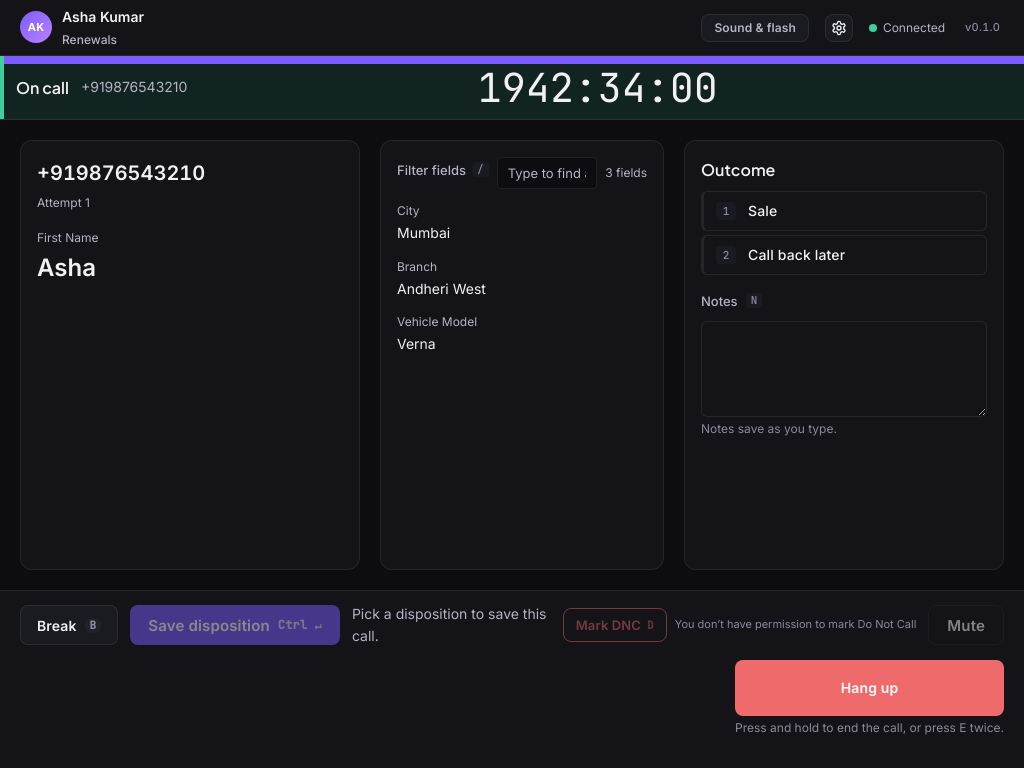
Scenario: the contact-panel field filter › filters as you type, matching the VALUE, case-insensitively, and marks the match
Type "MUM" into the field labelled "Filter fields" at (547, 173), box [497,157,597,189]
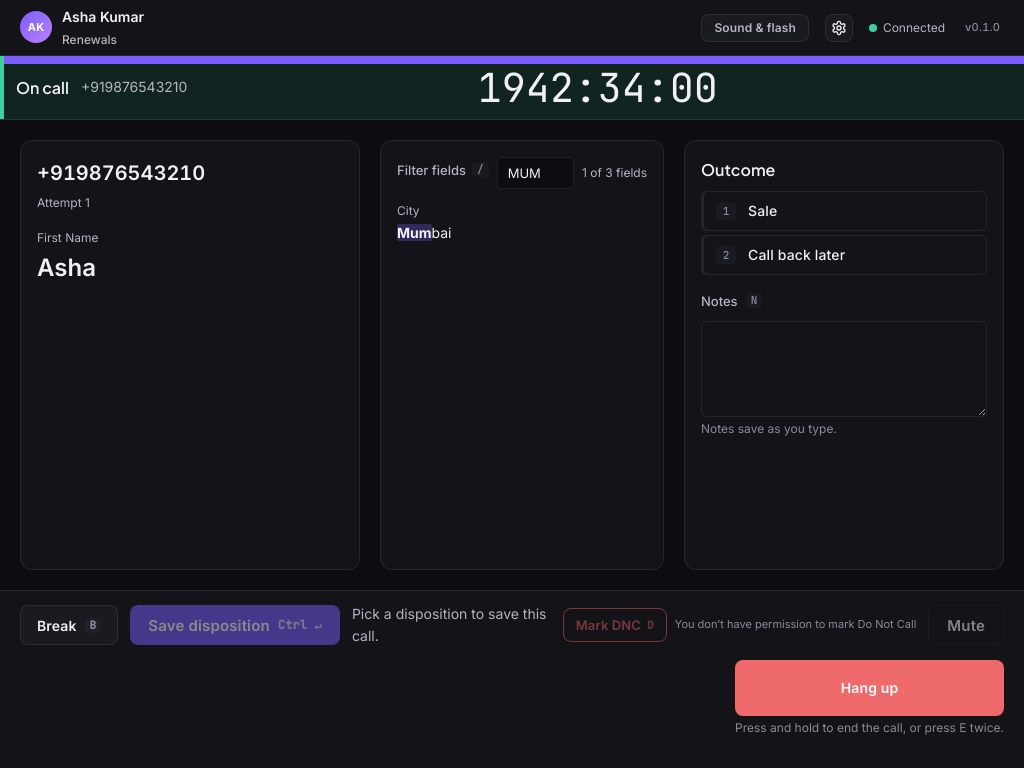
Expected: the text "City" is shown, [397,203,420,218]
Expected: the text "Branch" is gone
Expected: the text "Vehicle Model" is gone
